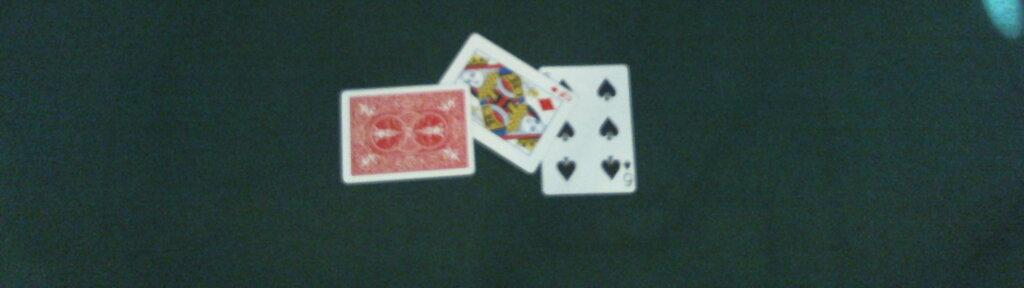back: (339, 86, 476, 186)
queen: (436, 33, 576, 175)
six: (539, 49, 638, 195)
